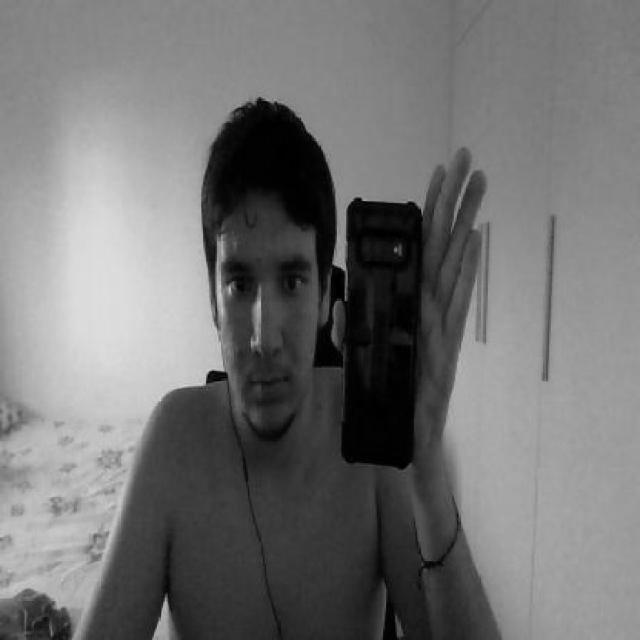fake: (342, 198, 424, 470)
